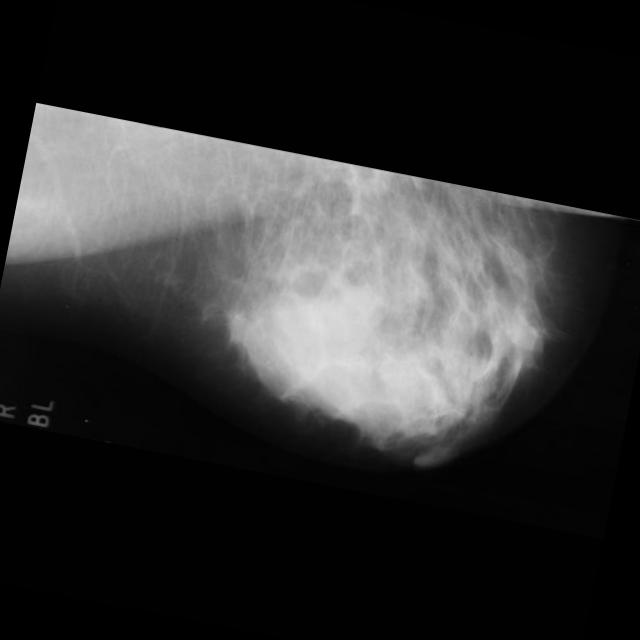CALC: (374, 248, 398, 272)
